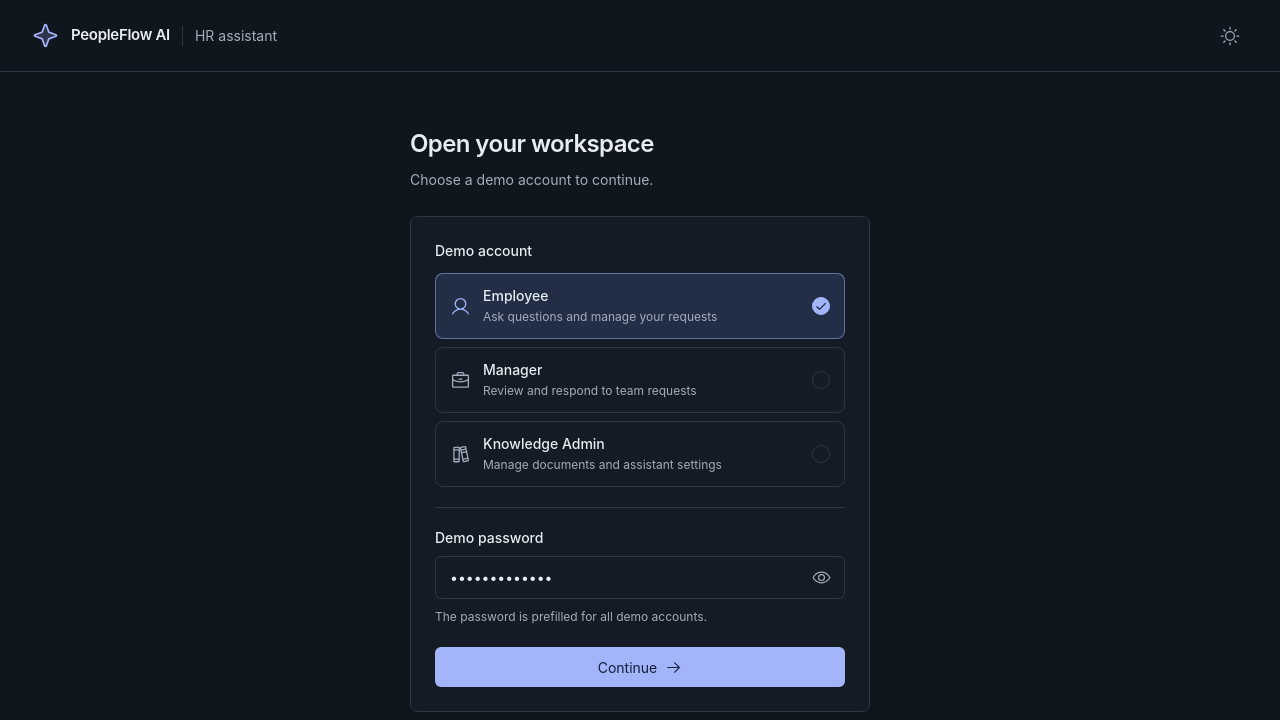
Test: workspace theme › still opens and switches themes when browser storage is unavailable
The width and height of the screenshot is (1280, 720).
What coordinates should you click on to do the following:
click the button named "Switch to light theme"
I would click on:
 (1230, 36)
Its box is [1212,18,1248,54].
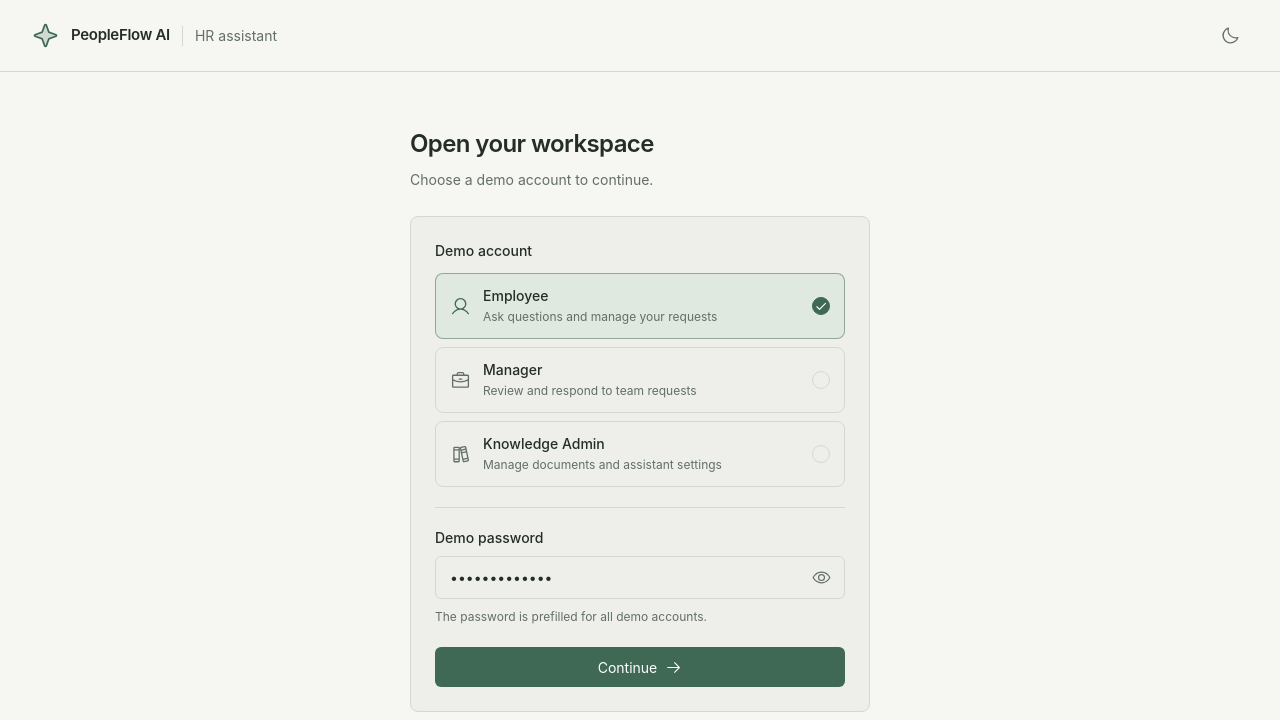
Expected: the heading "Open your workspace" is shown, [410,129,654,158]
Expected: the button named "Switch to dark theme" is shown, [1212,18,1248,54]
